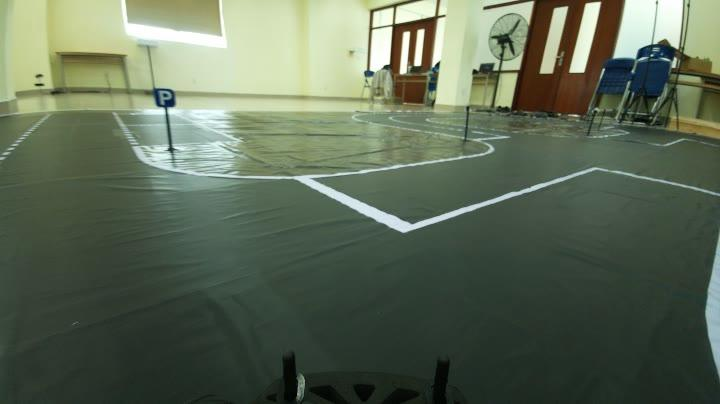parking: (148, 81, 181, 112)
